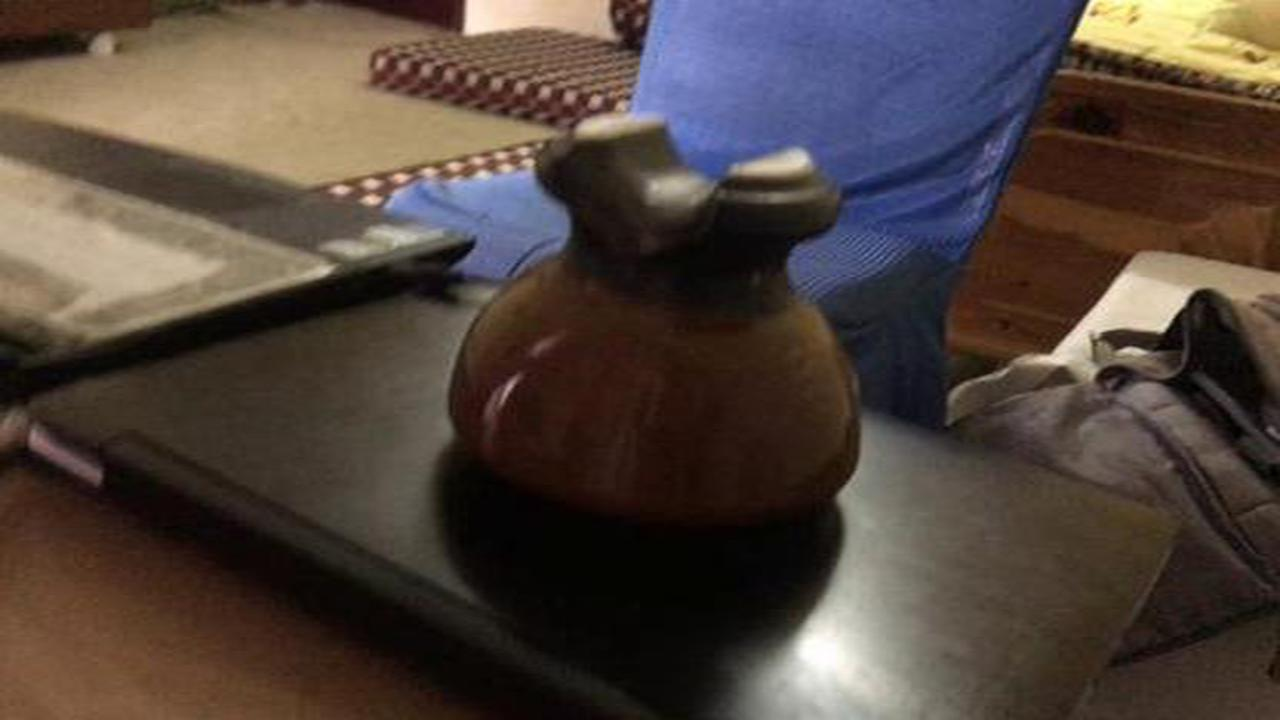insulator_pin: (436, 92, 890, 553)
